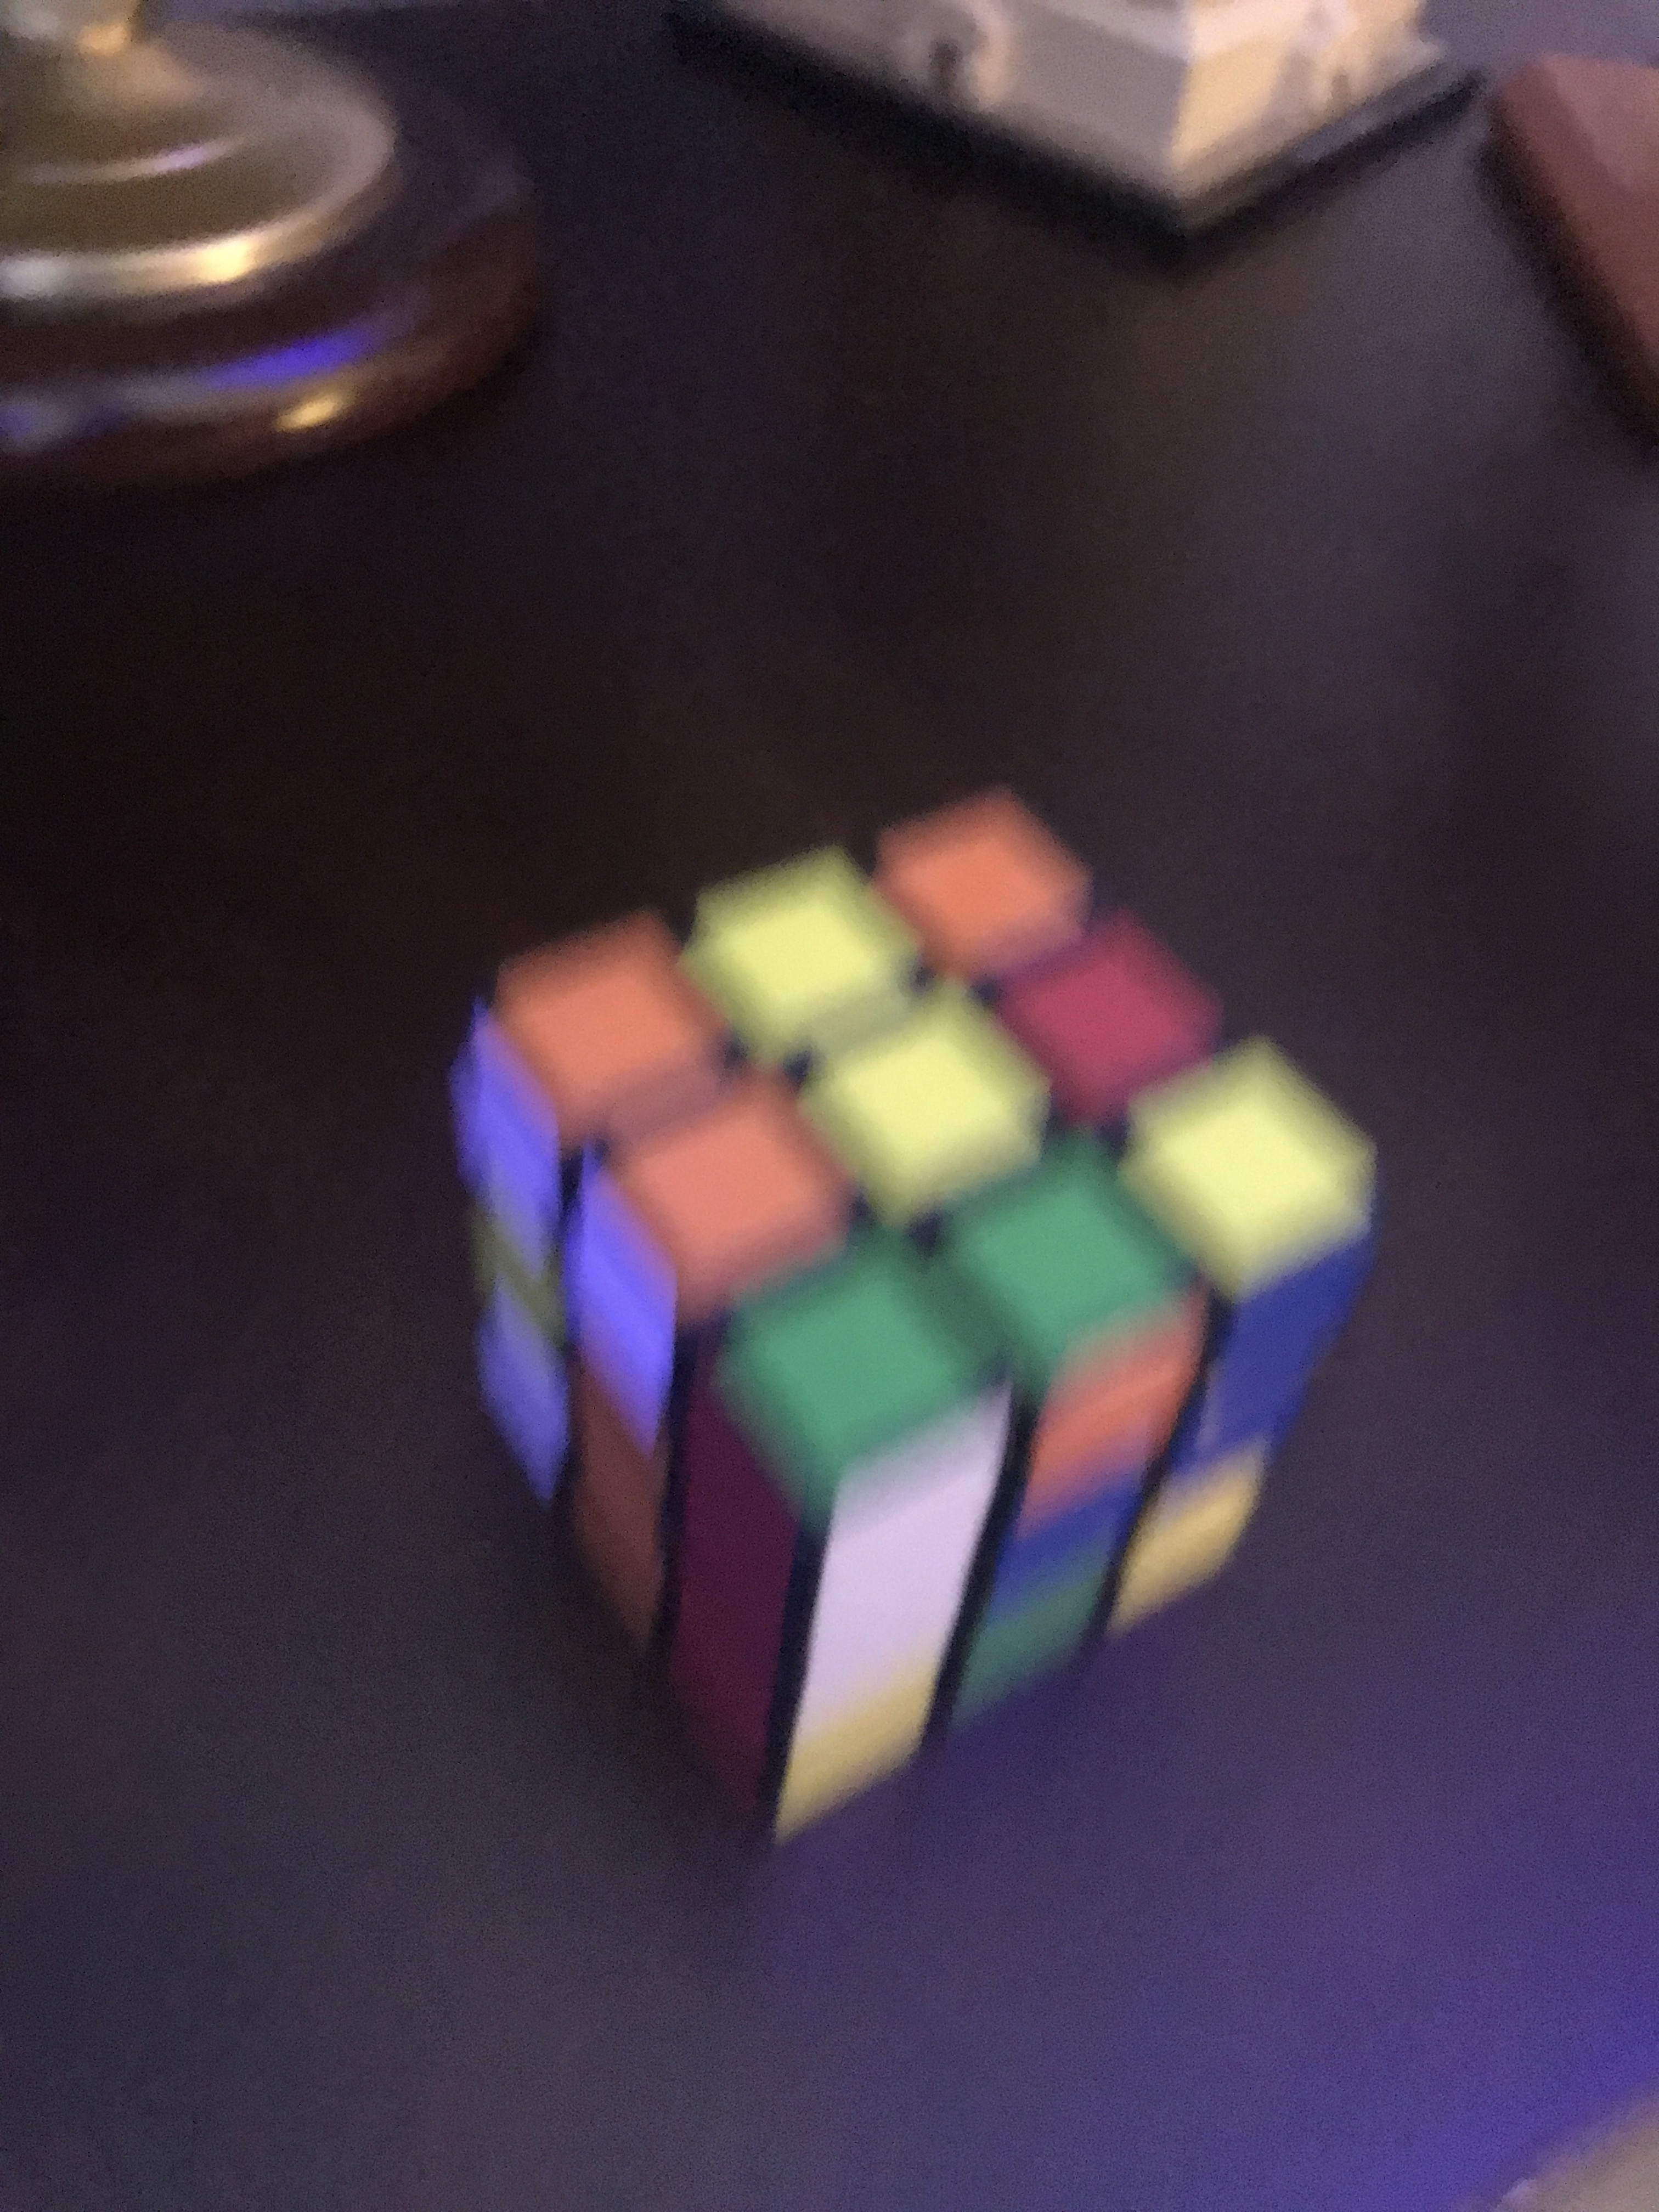rubiks: (448, 792, 1377, 1838)
